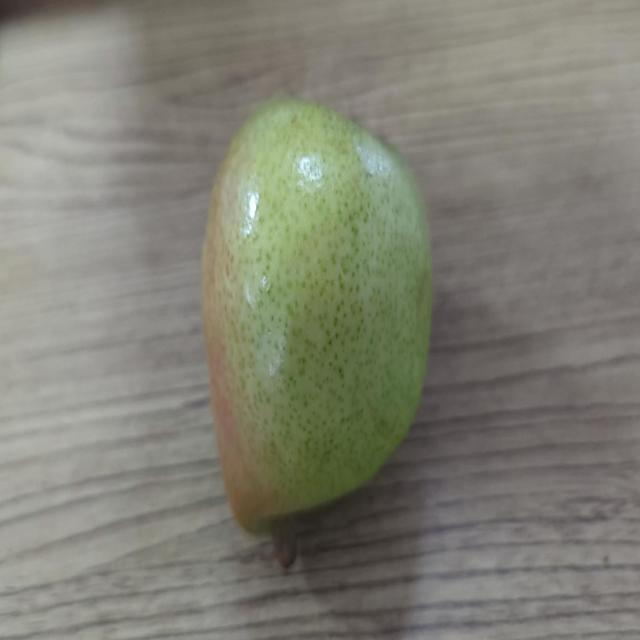Pir: (200, 85, 438, 532)
